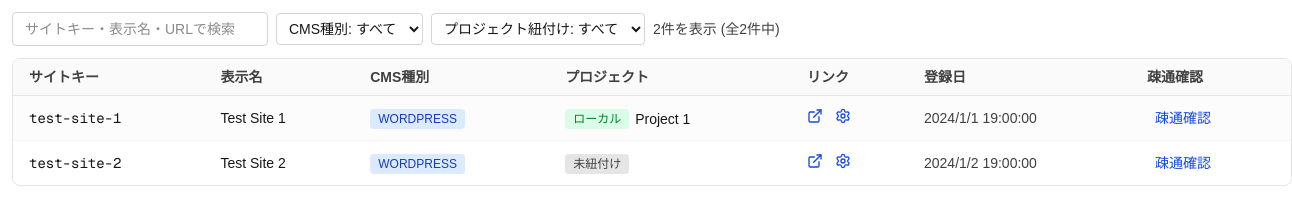
Test: SiteListTable › 表示名の列見出しをクリックすると並び替え、再クリックで昇順/降順が切り替わる
Click the column heading "表示名" at (241, 77), box [204, 59, 354, 96]
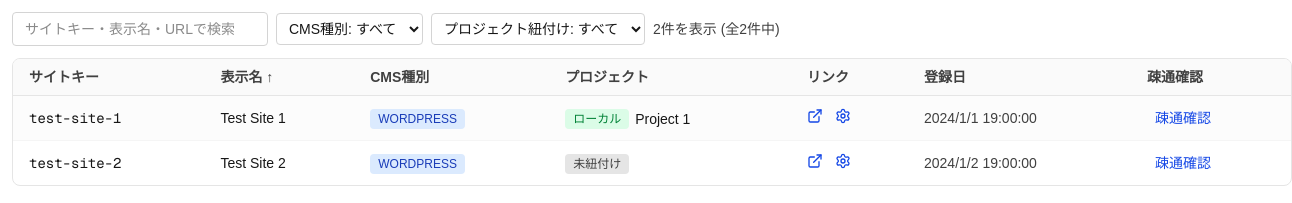
expect the column heading "表示名" reads "表示名 ↑": met
Click the column heading "表示名" at (241, 77), box [204, 59, 354, 96]
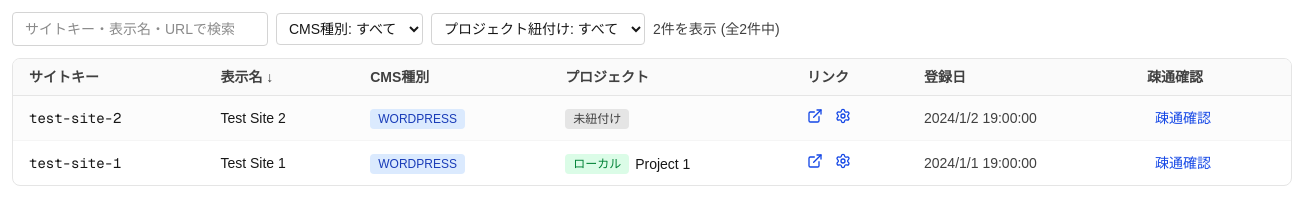
Click the column heading "登録日" at (945, 77), box [908, 59, 1131, 96]
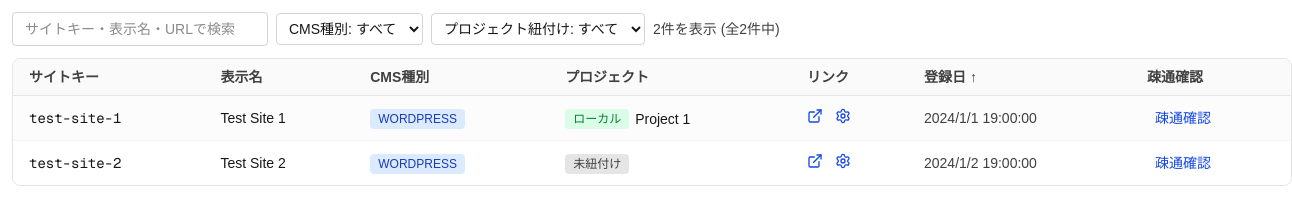
expect the text "Test Site 1" is shown: met, box [204, 96, 354, 140]
expect the column heading "表示名" no longer shows "↓": met, box [204, 59, 354, 96]
